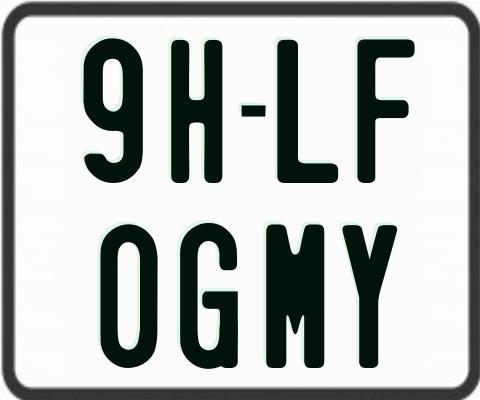0: (98, 222, 161, 368)
9: (80, 35, 142, 182)
F: (356, 36, 416, 183)
G: (180, 221, 243, 370)
H: (170, 37, 225, 186)
L: (274, 40, 337, 183)
M: (265, 222, 323, 369)
Y: (342, 225, 397, 372)
